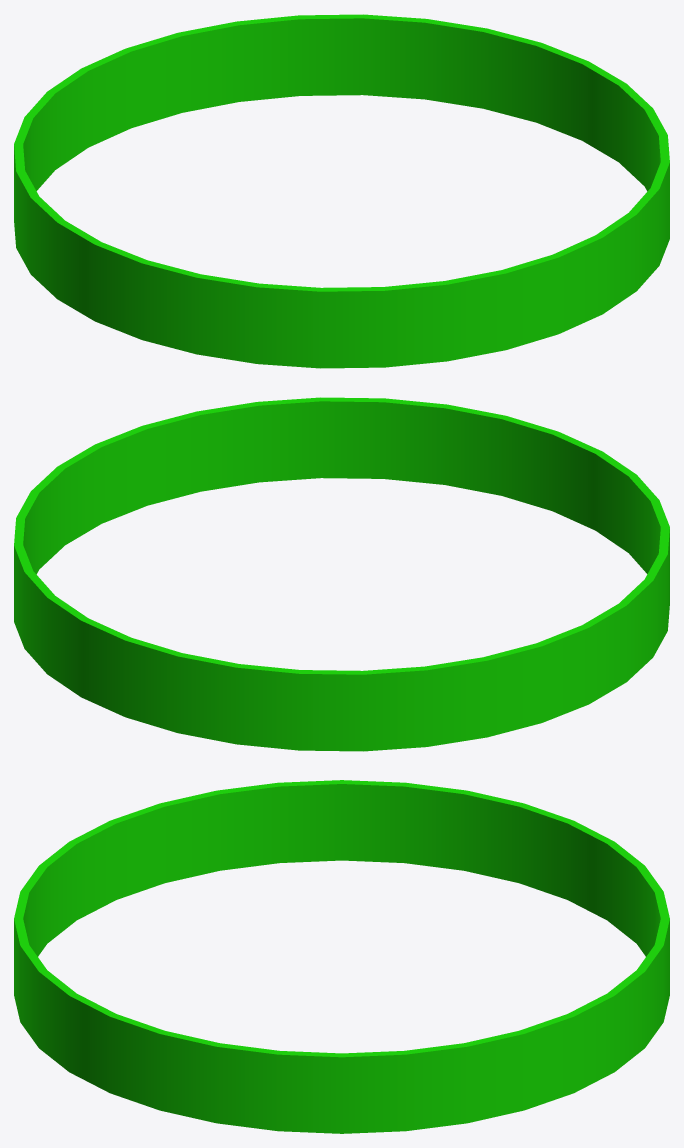
Rendered from komono7.fbx.
3 renders of one model, top to bottom at view 1: azimuth 30°, elevation 25°; view 2: azimuth 150°, elevation 25°; view 3: azimuth 270°, elevation 25°, orthographic.
Visible parts, largest first — view 1: Cylinder.007; view 2: Cylinder.007; view 3: Cylinder.007.
Part boxes in pixels (<box>): Cylinder.007: <box>14,14,669,368</box>; Cylinder.007: <box>14,397,669,751</box>; Cylinder.007: <box>14,780,669,1133</box>.
Size of the model in its own units: 111 by 14.36 by 111.
